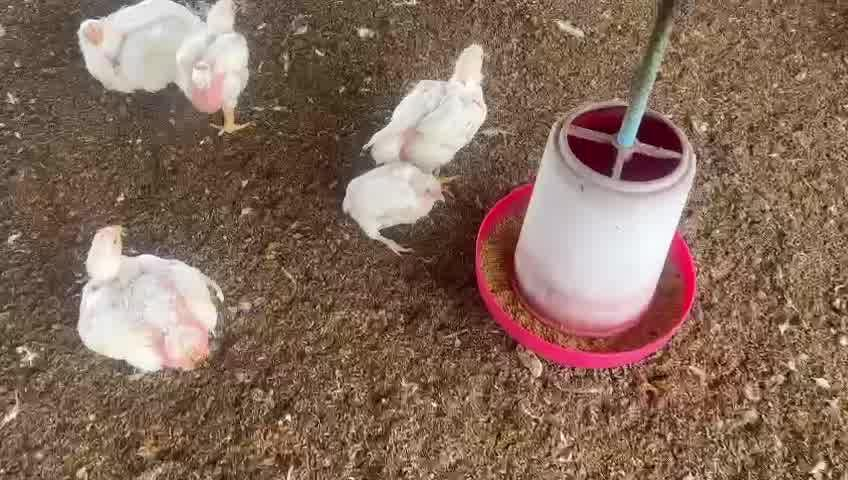AbNormal: (74, 223, 217, 371), (78, 3, 197, 93), (341, 162, 449, 257)
Normal: (370, 42, 487, 169), (178, 0, 249, 133)
